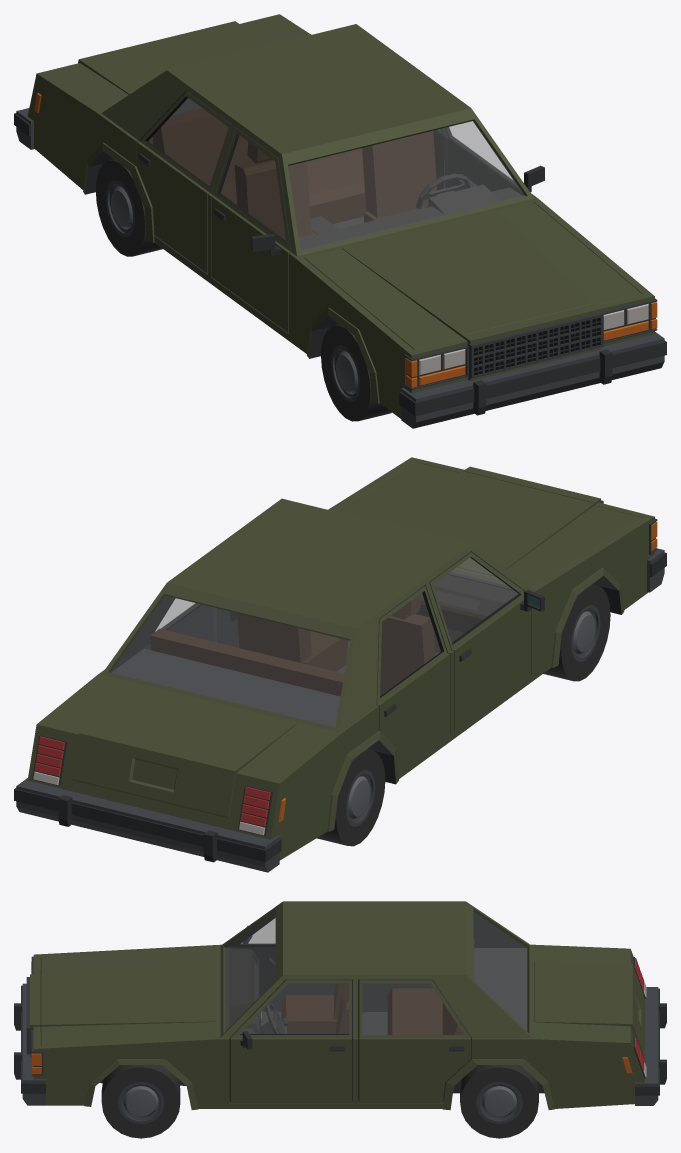
File: 10_SEDAN_01.glb
3 renders of one model, top to bottom at view 1: azimuth 30°, elevation 25°; view 2: azimuth 150°, elevation 25°; view 3: azimuth 270°, elevation 25°, orthographic. The views are drawn at different scales.
Parts seen in each view (by area): view 1: SEDAN_01, INTERIOR.009, WINDOWS.007, DOOR FR.006, DOOR BR.006, WHEEL.1R.007, WHEEL.2R.007, WIN BR.003, WIN FR.004, DOOR FL.004, WIN FL.007; view 2: SEDAN_01, WINDOWS.007, INTERIOR.009, DOOR FR.006, DOOR BR.006, WHEEL.1R.007, WHEEL.2R.007, WIN FR.004, WIN BR.003, DOOR BL.006, DOOR FL.004; view 3: SEDAN_01, DOOR FL.004, INTERIOR.009, WINDOWS.007, DOOR BL.006, WHEEL.1L.007, WHEEL.2L.007, WIN BL.003, WIN FL.007, DOOR FR.006, DOOR BR.006, WIN FR.004.
Boxes of the visible parts, x1,y1,x2,y2 form: SEDAN_01: (14, 14, 666, 428); INTERIOR.009: (152, 108, 522, 249); WINDOWS.007: (288, 121, 524, 250); DOOR FR.006: (211, 128, 291, 332); DOOR BR.006: (136, 91, 232, 273); WHEEL.1R.007: (321, 324, 391, 421); WHEEL.2R.007: (95, 159, 162, 256); WIN BR.003: (148, 98, 228, 185); WIN FR.004: (221, 136, 285, 240); DOOR FL.004: (444, 121, 544, 195); WIN FL.007: (446, 121, 516, 185); SEDAN_01: (14, 457, 666, 872); WINDOWS.007: (111, 558, 505, 726); INTERIOR.009: (150, 574, 518, 696); DOOR FR.006: (429, 552, 544, 730); DOOR BR.006: (376, 585, 450, 771); WHEEL.1R.007: (543, 584, 610, 681); WHEEL.2R.007: (317, 749, 385, 846); WIN FR.004: (433, 558, 517, 641); WIN BR.003: (380, 593, 440, 695); DOOR BL.006: (144, 598, 214, 649); DOOR FL.004: (217, 608, 239, 647); SEDAN_01: (14, 901, 666, 1110); DOOR FL.004: (229, 979, 352, 1102); INTERIOR.009: (229, 938, 474, 1034); WINDOWS.007: (225, 912, 526, 1030); DOOR BL.006: (358, 979, 471, 1102); WHEEL.1L.007: (101, 1065, 180, 1138); WHEEL.2L.007: (460, 1065, 538, 1138); WIN BL.003: (362, 983, 463, 1034); WIN FL.007: (241, 983, 348, 1033); DOOR FR.006: (229, 913, 335, 1011); DOOR BR.006: (362, 983, 433, 1012); WIN FR.004: (240, 919, 274, 944).
Size of the model in its own units: 2.22 by 1.4 by 5.39.
Materials: 2 (2 with a texture image).
